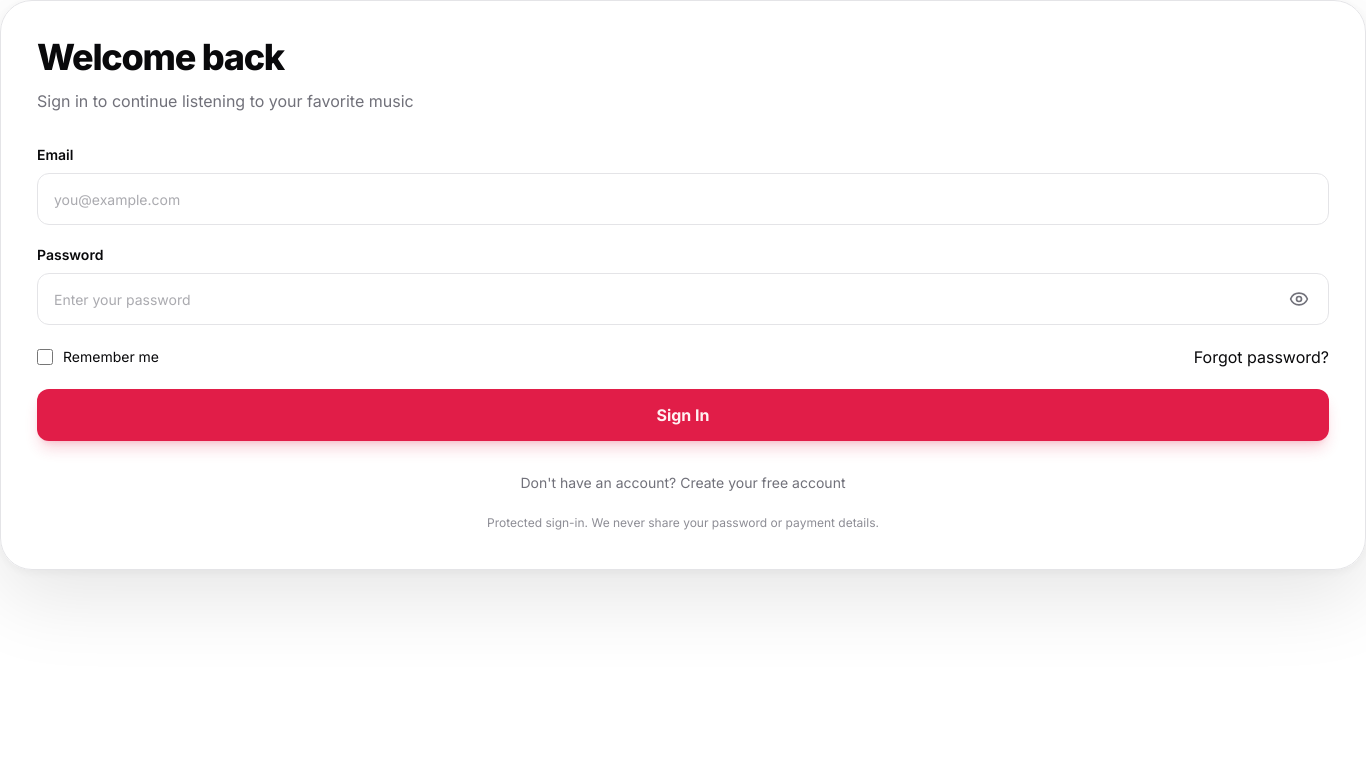
Test case: LoginPage › starts a cooldown when the backend returns a login retry window
Type "artist@test.com" into the field labelled "Email" at coordinates (683, 199), box x1=37 y1=173 x2=1329 y2=225
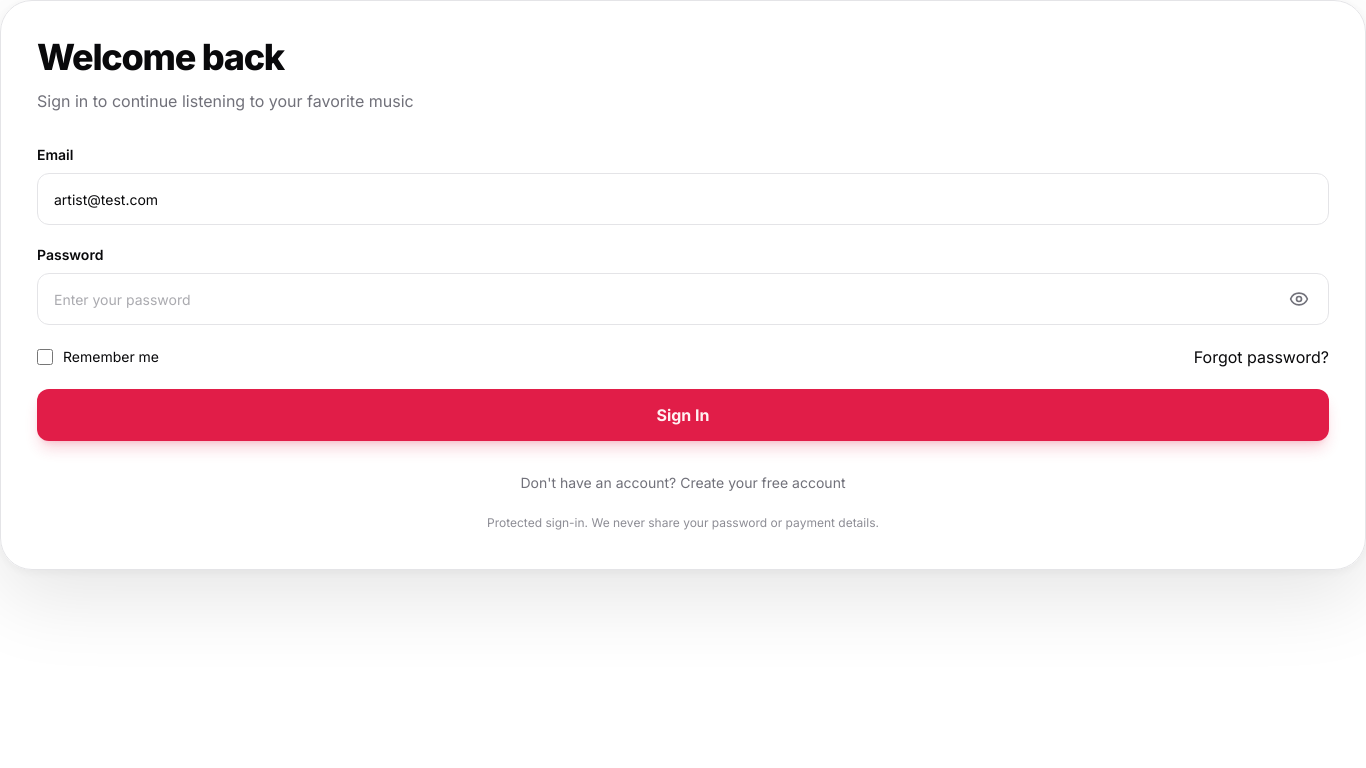
Type "password" into the password field labelled "Password" at coordinates (683, 299), box x1=37 y1=273 x2=1329 y2=325
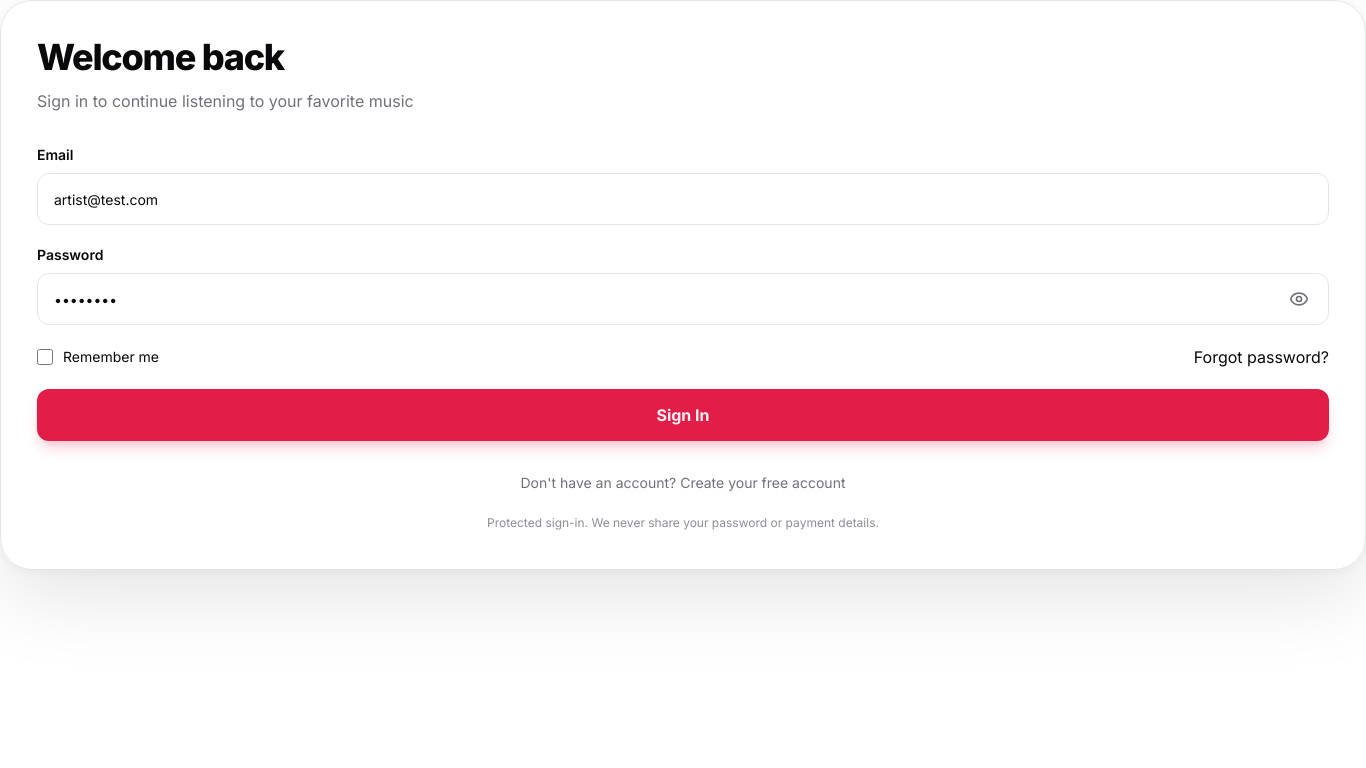
Click the button "Sign In" at coordinates (683, 415), box x1=37 y1=389 x2=1329 y2=441
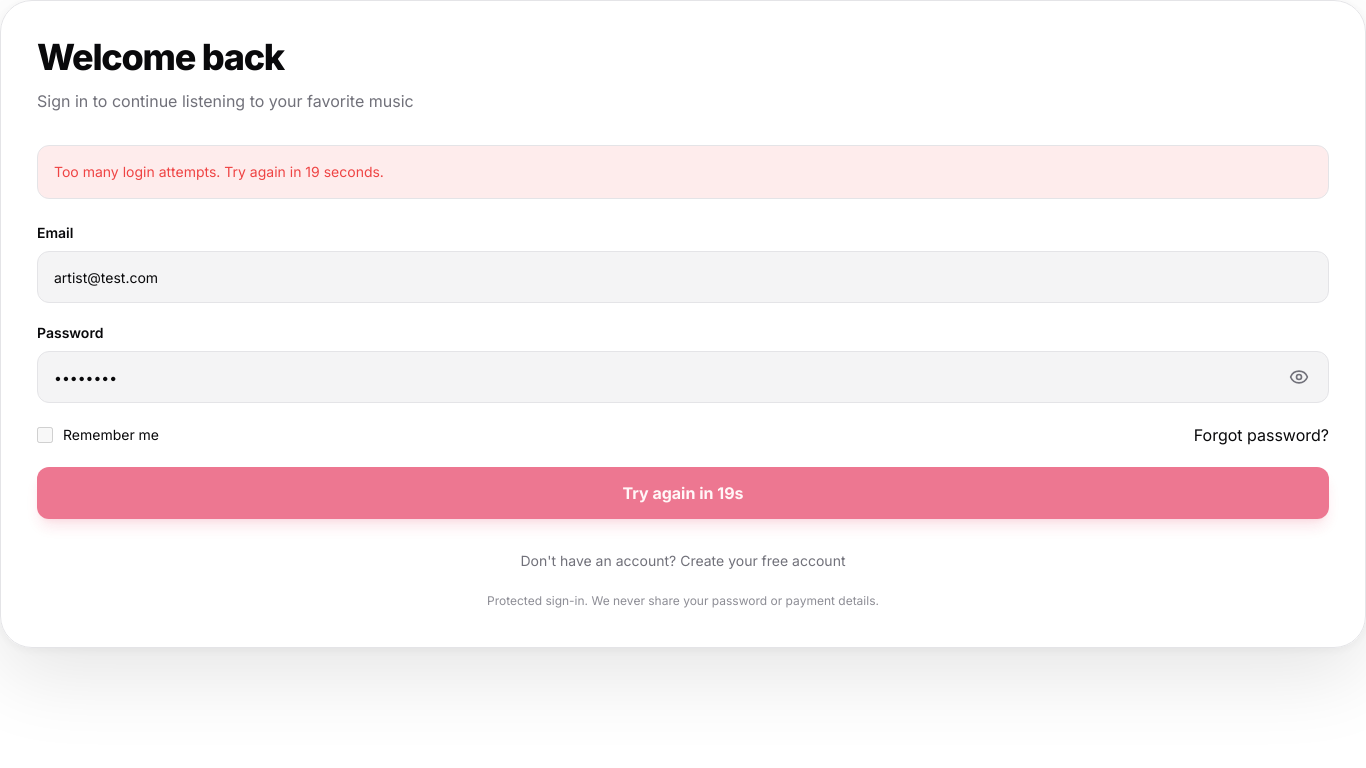
expect the button "Try again in 19s" is disabled: met, box x1=37 y1=467 x2=1329 y2=519
expect the text "Too many login attempts. Try again in 19 seconds." is shown: met, box x1=37 y1=145 x2=1329 y2=199
